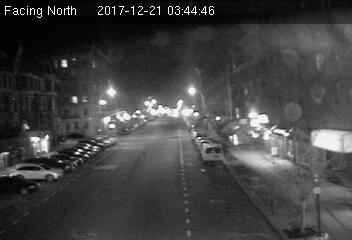truck: (201, 142, 224, 165)
